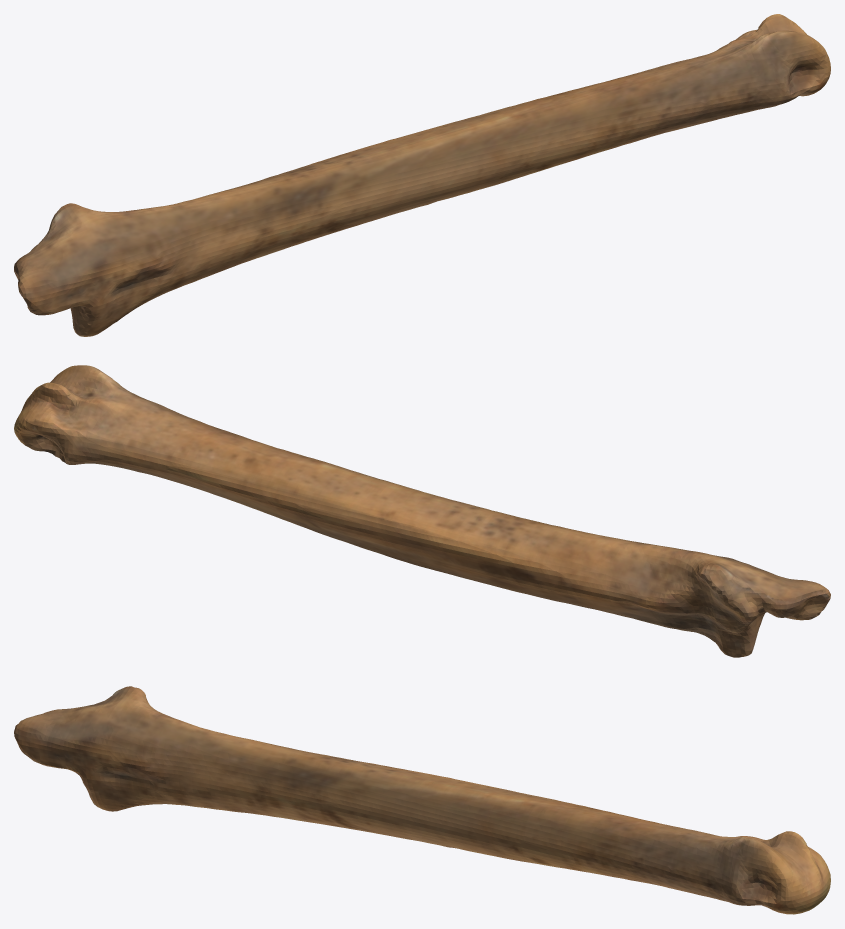
File: MB Lag 5 MT.obj
3 views of the same model, one above another, from view 1: azimuth 30°, elevation 25°; view 2: azimuth 150°, elevation 25°; view 3: azimuth 330°, elevation 25° (orthographic). The views are drawn at different scales.
Size of the model in its own units: 57.1 by 9.1 by 6.94.
Materials: 1 (1 with a texture image).
